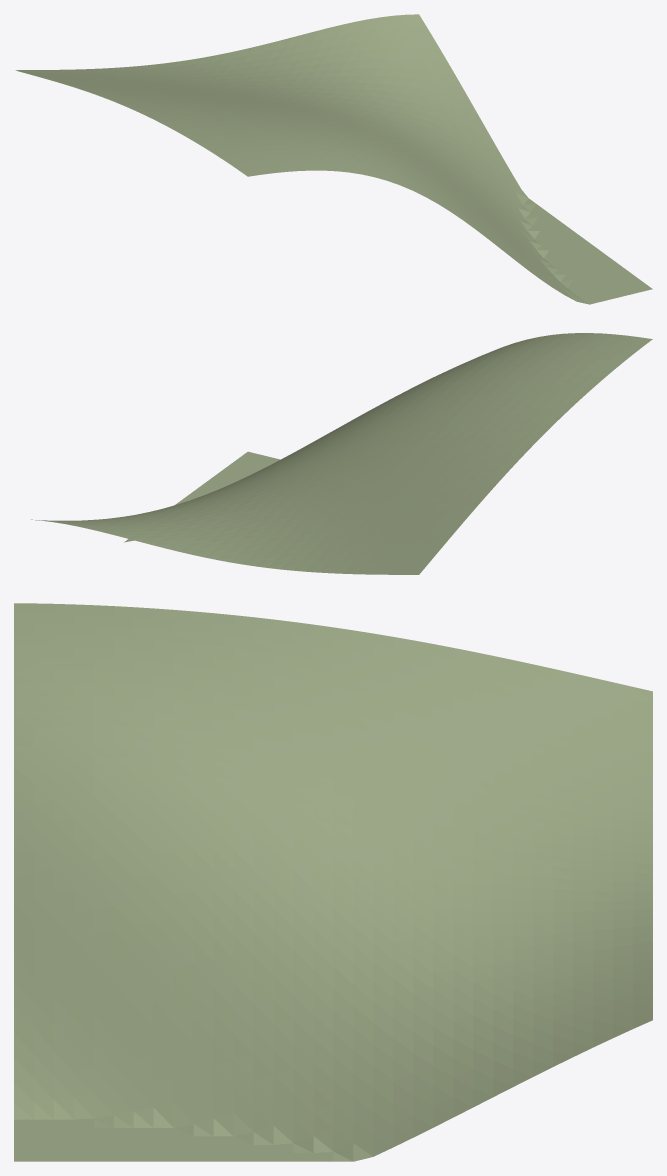
File: expanse-12-14.glb
The picture shows the model from 3 angles, top to bottom: view 1: azimuth 30°, elevation 25°; view 2: azimuth 150°, elevation 25°; view 3: azimuth 270°, elevation 25°; orthographic projection. The views are drawn at different scales.
Parts seen in each view (by area): view 1: expanse-12-14; view 2: expanse-12-14; view 3: expanse-12-14.
Part boxes in pixels (x1,y1,x2,y2): expanse-12-14: (15, 14, 652, 304); expanse-12-14: (31, 333, 652, 574); expanse-12-14: (14, 603, 652, 1161).
Size of the model in its own units: 256 by 128 by 256.
